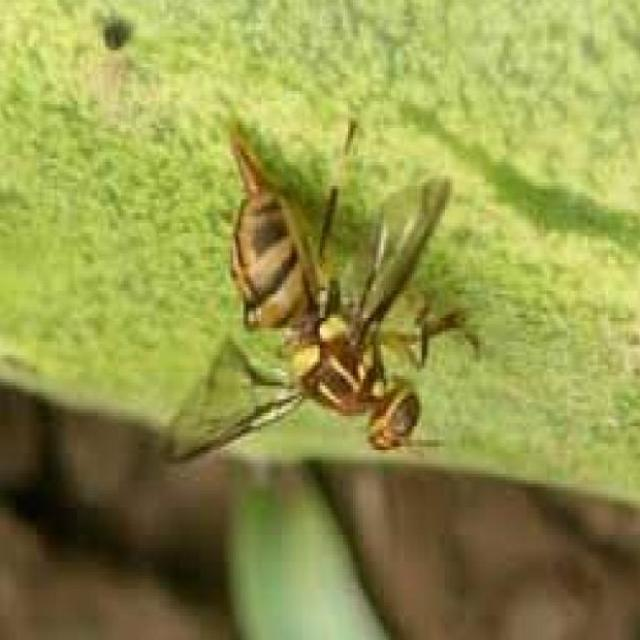Fruit fly: (159, 110, 489, 472)
